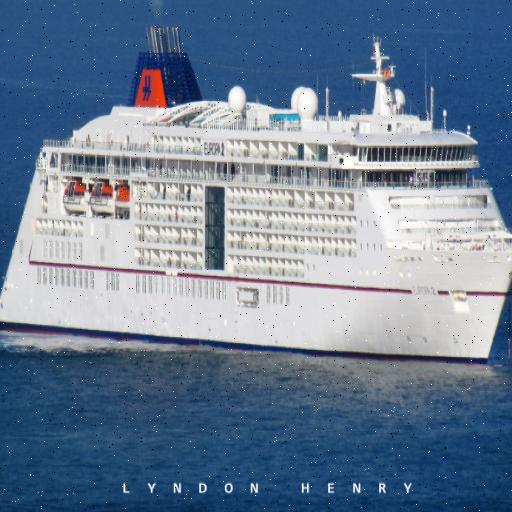cruises: (1, 1, 512, 376)
